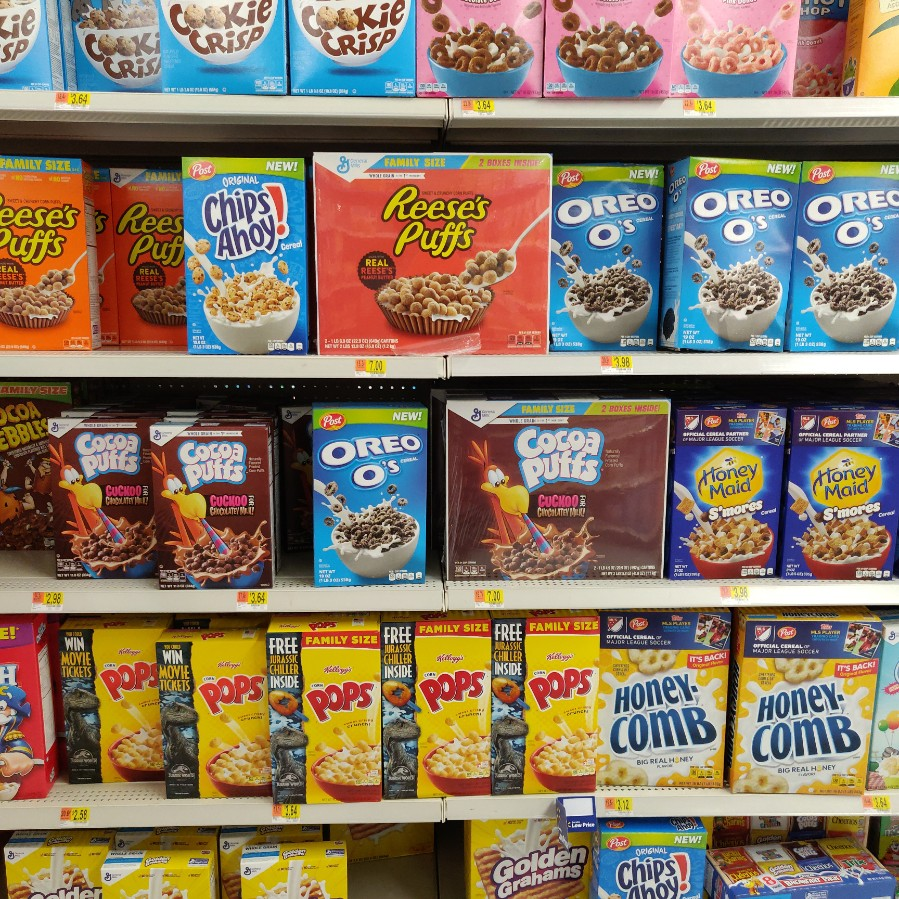Chips Ahoys-565717529: (186, 160, 315, 351), (594, 816, 707, 899)
Honey Comb- 009288857: (748, 608, 871, 794), (600, 614, 719, 776)
Oreo-563424384: (554, 163, 663, 350), (318, 410, 432, 588), (691, 157, 789, 351), (804, 160, 898, 355)
